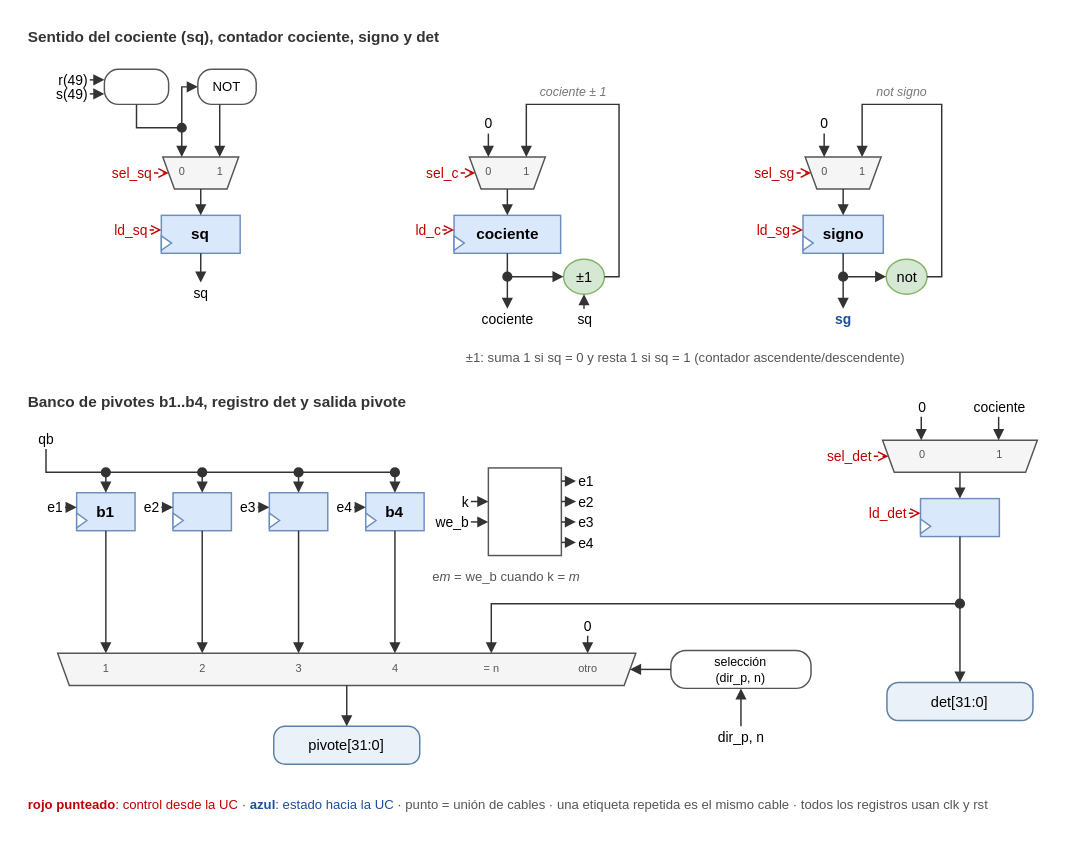
Image size: 1072x853. Some labels were removed from this diagram. Here are the shapes that lost their labels. From the top down, the box of each, then its label:
(103, 68, 169, 104): XOR
(172, 491, 231, 531): b2
(268, 491, 328, 531): b3
(487, 466, 561, 556): DEC 2 → 4
(919, 497, 999, 537): det
